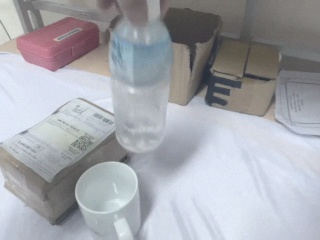bottle: (105, 2, 174, 153)
box: (1, 97, 125, 227), (203, 38, 281, 116), (165, 7, 222, 106)
cup: (73, 160, 144, 239)
